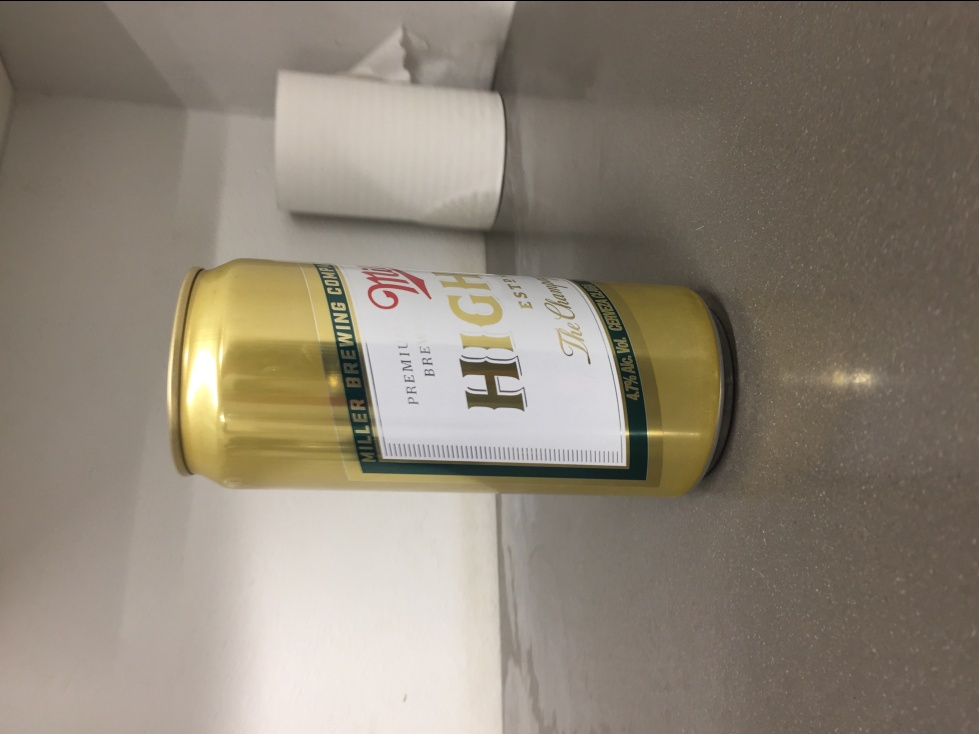miller: (163, 256, 728, 501)
